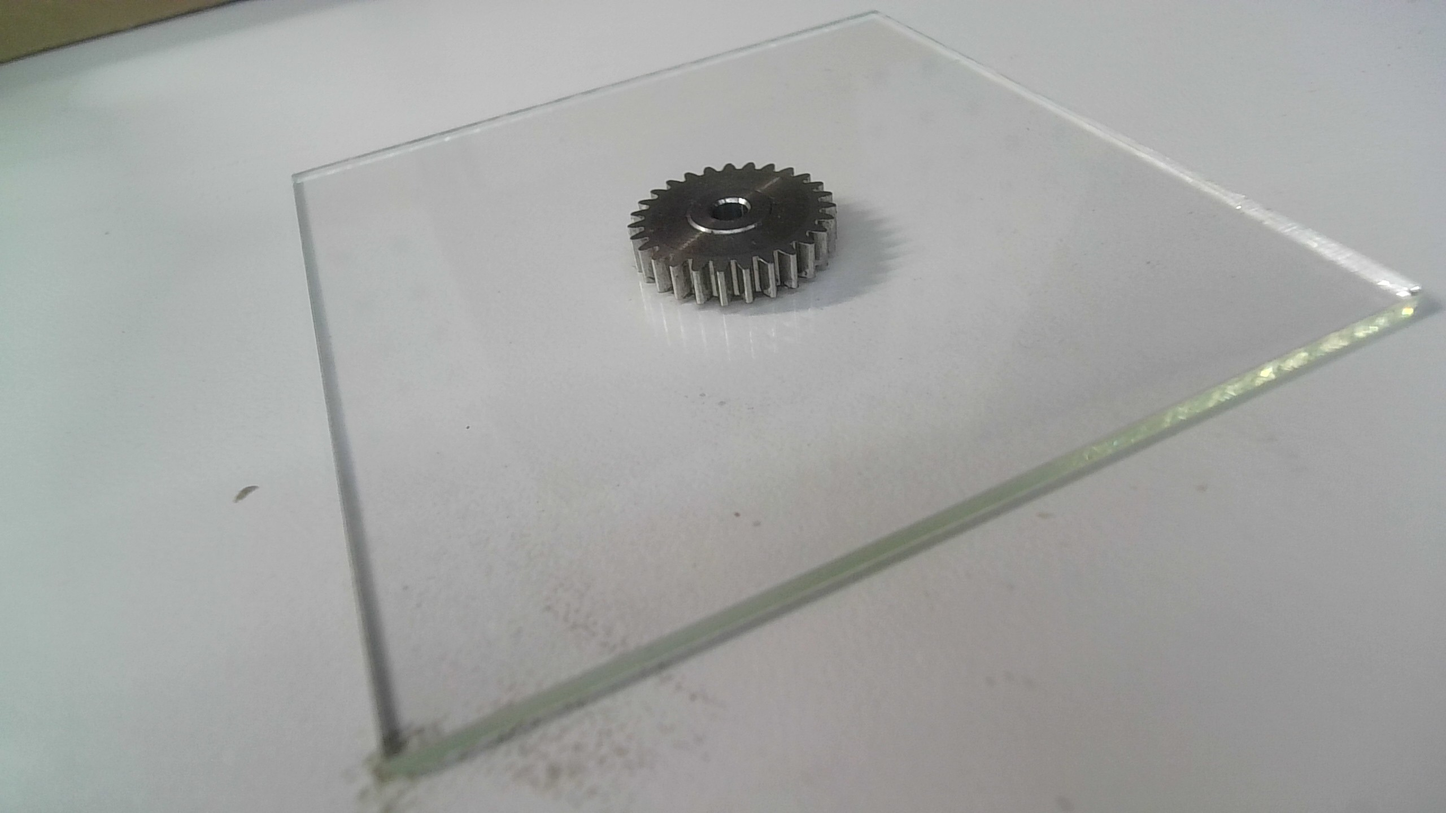gear: (623, 158, 844, 307)
